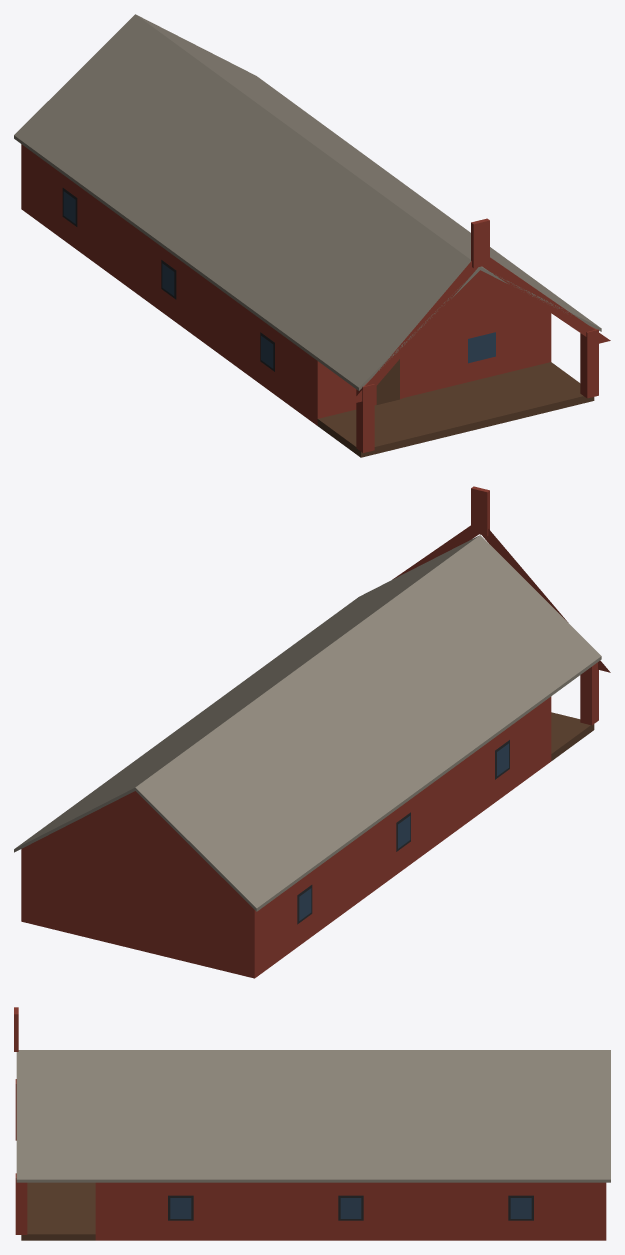
Rendered from wharenui.glb.
3 renders of one model, top to bottom at view 1: azimuth 30°, elevation 25°; view 2: azimuth 150°, elevation 25°; view 3: azimuth 270°, elevation 25°, orthographic. The views are drawn at different scales.
Parts seen in each view (by area): view 1: wharenui; view 2: wharenui; view 3: wharenui.
Part boxes in pixels (x1,y1,x2,y2): wharenui: [14, 14, 610, 457]; wharenui: [14, 486, 610, 978]; wharenui: [14, 1007, 610, 1240].
Size of the model in its own units: 11.2 by 8.6 by 25.72.
1 material, 1 textured.
